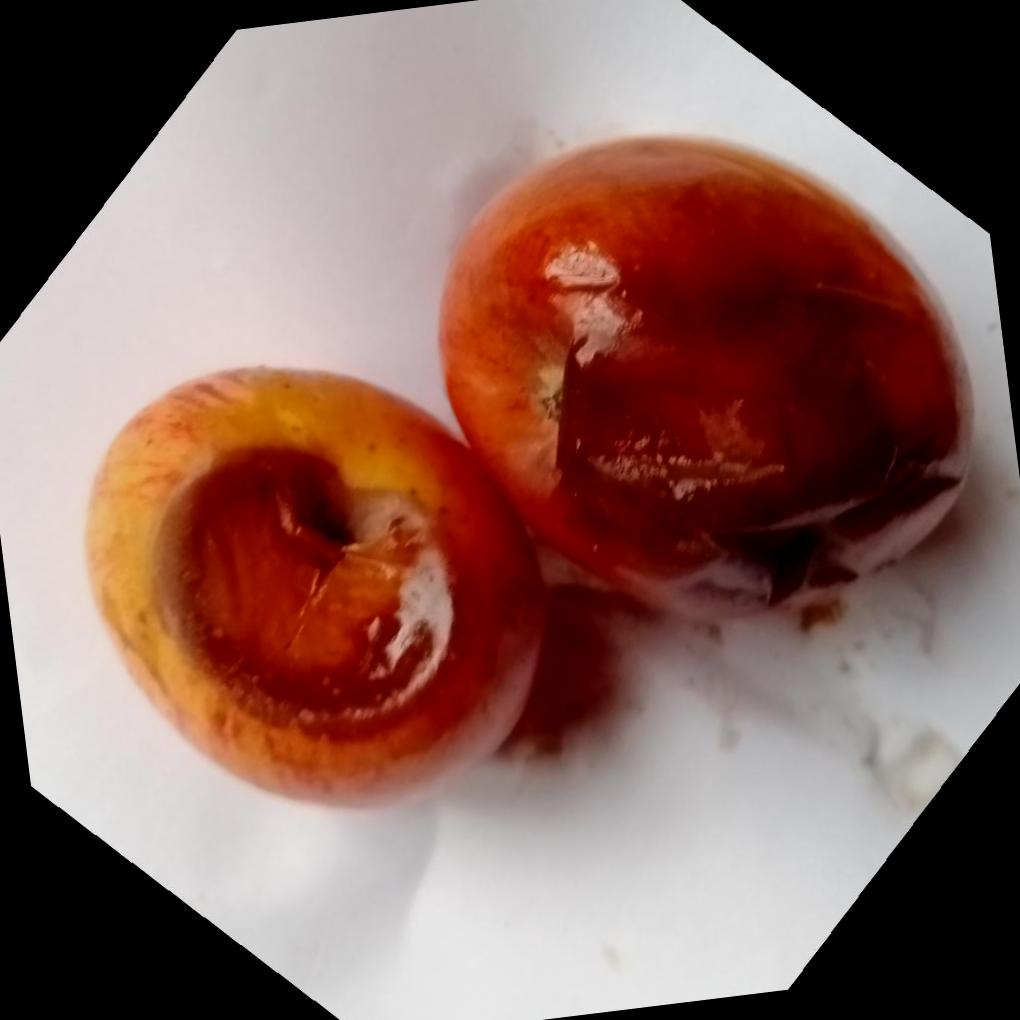FreshOrange: (99, 135, 971, 807)
